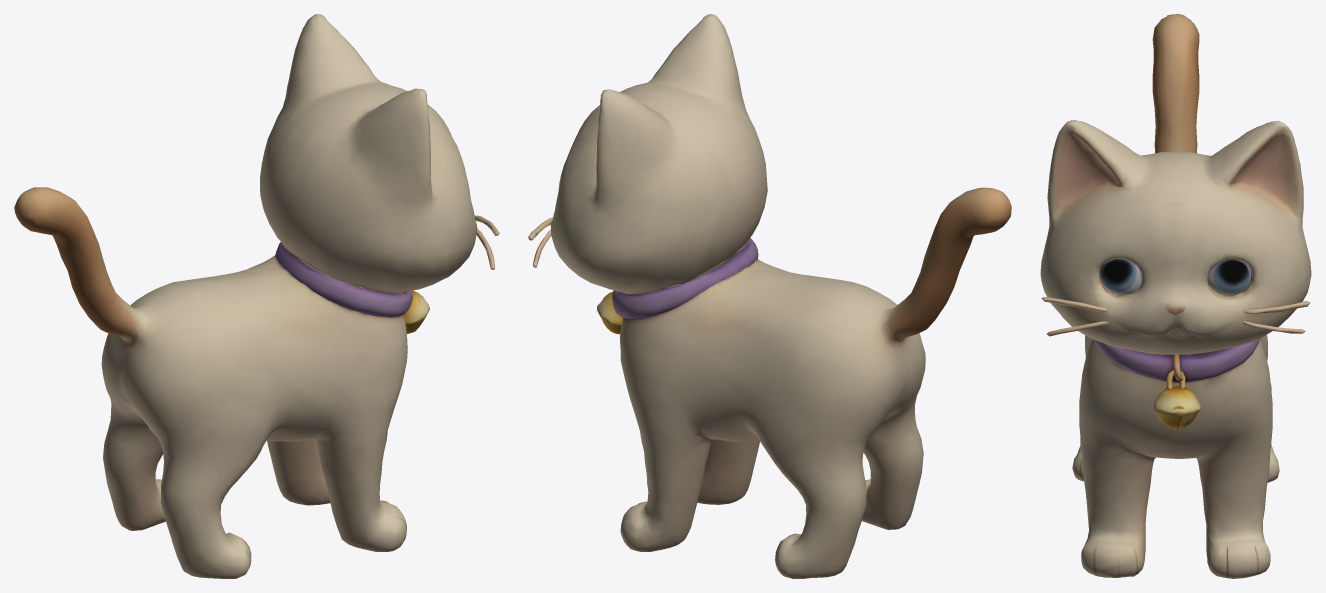
The model's file is r33-cat.glb.
3 renders of one model, left to right at view 1: azimuth 30°, elevation 25°; view 2: azimuth 150°, elevation 25°; view 3: azimuth 270°, elevation 25°, orthographic.
Parts seen in each view (by area): view 1: tripo_node_c4312fd0-6328-4309-b99e-570d3b81f122; view 2: tripo_node_c4312fd0-6328-4309-b99e-570d3b81f122; view 3: tripo_node_c4312fd0-6328-4309-b99e-570d3b81f122.
Boxes of the visible parts, x1=… form: tripo_node_c4312fd0-6328-4309-b99e-570d3b81f122: x1=14, y1=14, x2=499, y2=578; tripo_node_c4312fd0-6328-4309-b99e-570d3b81f122: x1=528, y1=14, x2=1011, y2=578; tripo_node_c4312fd0-6328-4309-b99e-570d3b81f122: x1=1040, y1=14, x2=1311, y2=578.
Size of the model in its own units: 0.998 by 0.998 by 0.5332.
Materials: 1 (1 with a texture image).
